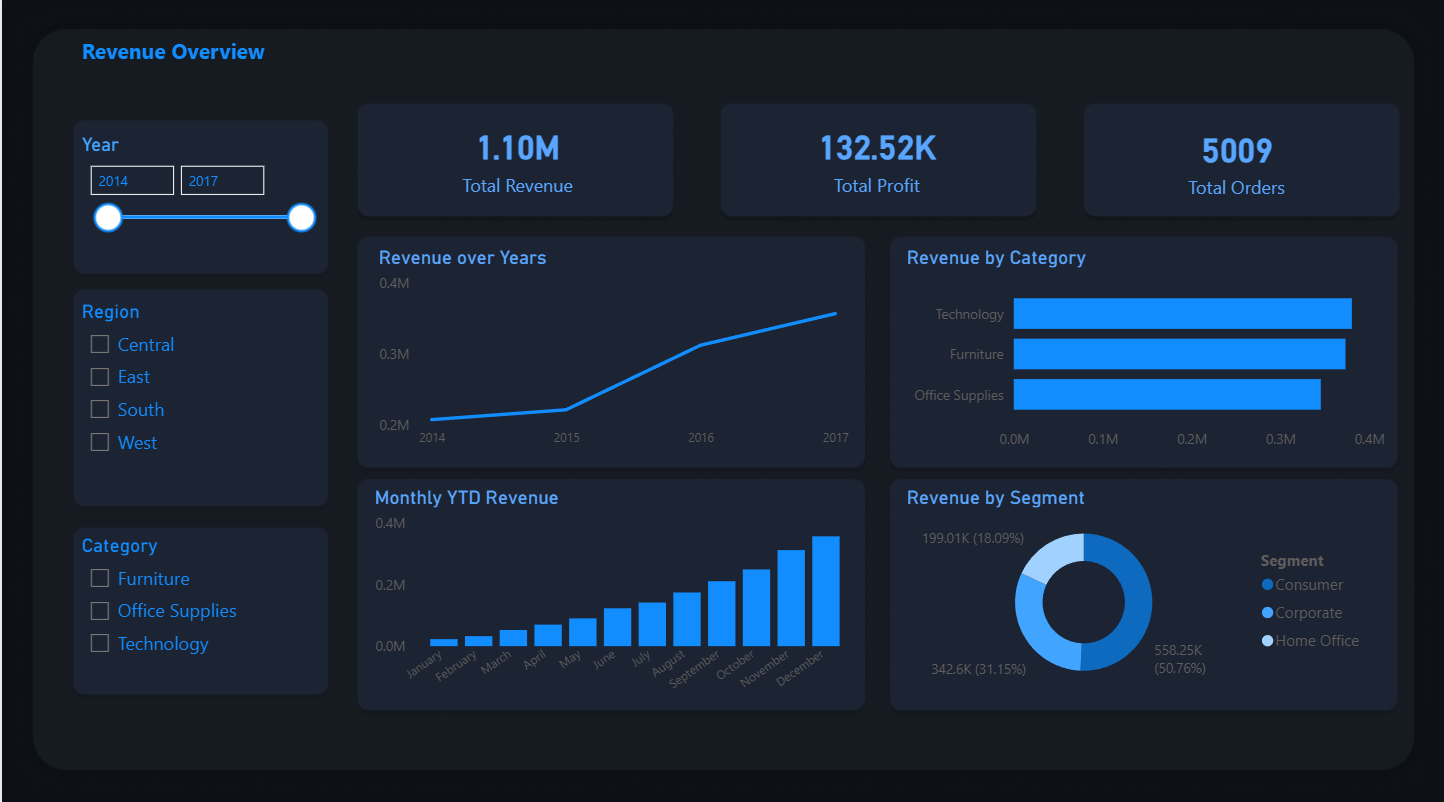

The dashboard page shown, as its layout file describes it:
{"tool":"powerbi","page":{"name":"Revenue Overview DM","canvas":[1280,720],"ordinal":5},"visuals":[{"type":"card","fields":{"Values":["DaxMeasures.Total Revenue"]},"box":[342,105,230,79],"z":0},{"type":"card","fields":{"Values":["DaxMeasures.Total Profit"]},"box":[662,103,227,82],"z":1000},{"type":"card","fields":{"Values":["DaxMeasures.Total Orders"]},"box":[984,108,221,76],"z":2000},{"type":"lineChart","title":"Revenue over Years","fields":{"Category":["DimDate.Date.Variation.Date Hierarchy.Year","DimDate.Date.Variation.Date Hierarchy.Month"],"Y":["DaxMeasures.Total Revenue"]},"box":[329,223,427,188],"z":3000},{"type":"clusteredBarChart","title":"Revenue by Category","fields":{"Category":["DimProduct.Category"],"Y":["DaxMeasures.Total Revenue"]},"box":[797,223,434,190],"z":4000},{"type":"clusteredColumnChart","title":"Monthly YTD Revenue","fields":{"Category":["DimDate.MonthName"],"Y":["DaxMeasures.YTD Revenue"]},"box":[325,435,435,193],"z":5000},{"type":"donutChart","title":" Revenue by Segment","fields":{"Category":["DimCustomer.Segment"],"Y":["DaxMeasures.Total Revenue"]},"box":[797,435,421,187],"z":6000},{"type":"slicer","title":"Year","fields":{"Values":["DimDate.Year"]},"box":[66,122,221,123],"z":7000},{"type":"slicer","title":"Region ","fields":{"Values":["DimRegion.Region"]},"box":[66,270,221,179],"z":8000},{"type":"slicer","title":"Category ","fields":{"Values":["DimProduct.Category"]},"box":[65.6,477.9,221.7,151.6],"z":9000},{"type":"textbox","box":[65.6,31.9,299.7,37.2],"z":10000}]}

Visuals, with their boxes in screenshot pixels (x1, y1, x2, y2), scaled from the page's 1280x720 canvas onto the 1444x802 screenshot:
card - DaxMeasures.Total Revenue: pyautogui.locateOnScreen(386, 117, 645, 205)
card - DaxMeasures.Total Profit: pyautogui.locateOnScreen(747, 115, 1003, 206)
card - DaxMeasures.Total Orders: pyautogui.locateOnScreen(1110, 120, 1359, 205)
"Revenue over Years" lineChart: pyautogui.locateOnScreen(371, 248, 853, 458)
"Revenue by Category" clusteredBarChart: pyautogui.locateOnScreen(899, 248, 1389, 460)
"Monthly YTD Revenue" clusteredColumnChart: pyautogui.locateOnScreen(367, 485, 857, 700)
" Revenue by Segment" donutChart: pyautogui.locateOnScreen(899, 485, 1374, 693)
"Year" slicer: pyautogui.locateOnScreen(74, 136, 324, 273)
"Region " slicer: pyautogui.locateOnScreen(74, 301, 324, 500)
"Category " slicer: pyautogui.locateOnScreen(74, 532, 324, 701)
textbox: pyautogui.locateOnScreen(74, 36, 412, 77)
